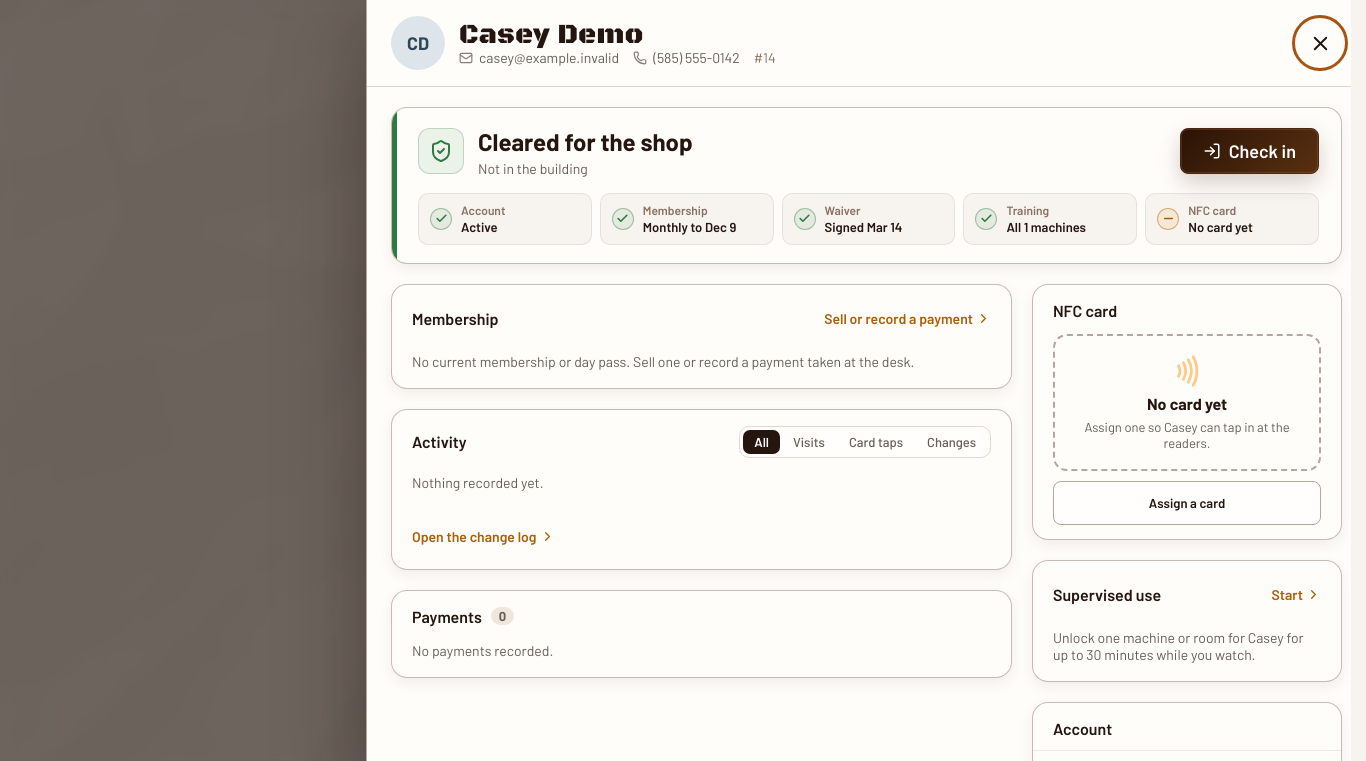
Test: the name is said once and the verdict leads with the desk action
Expected: the heading "Cleared for the shop" is shown, [478, 128, 693, 156]
Click the button "Check in" at (1249, 151), box [1180, 128, 1319, 174]
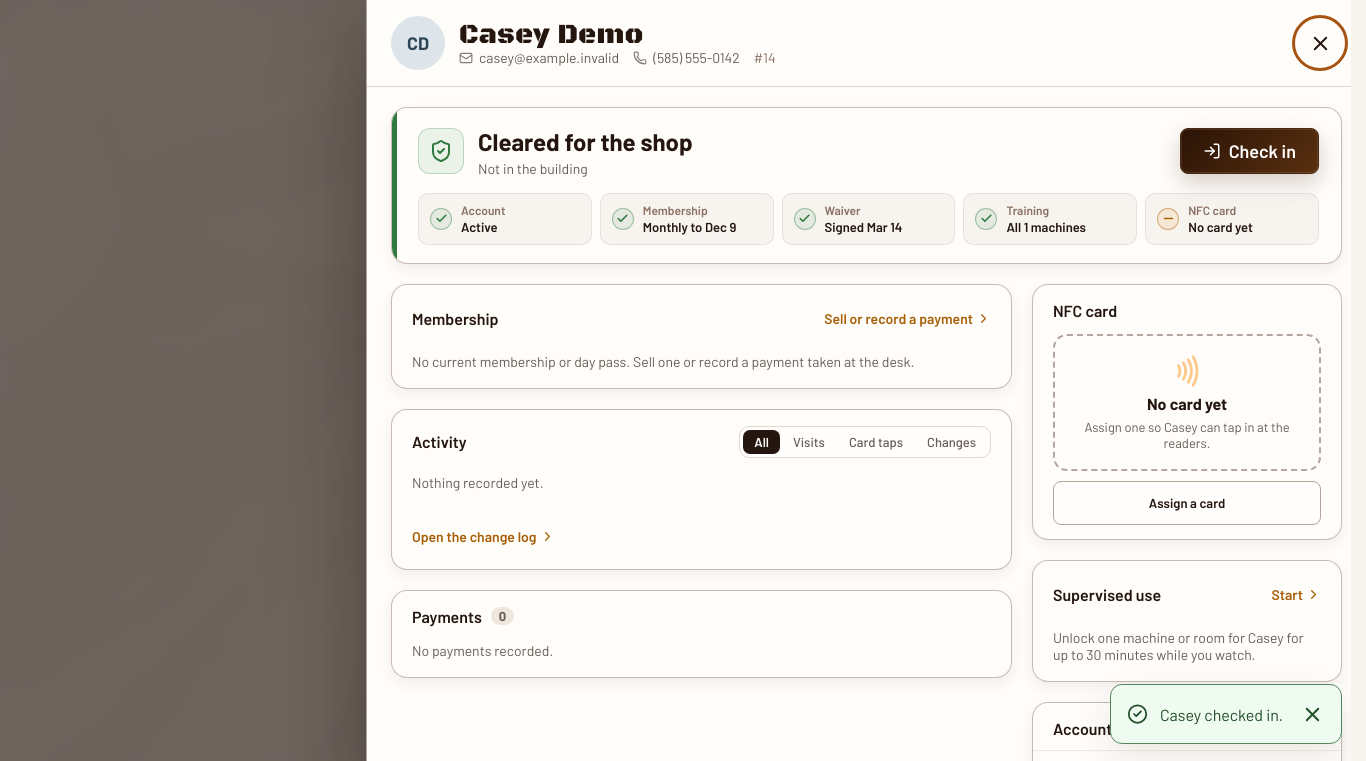
Expected: the text "Casey checked in." is shown, [1160, 704, 1283, 724]
